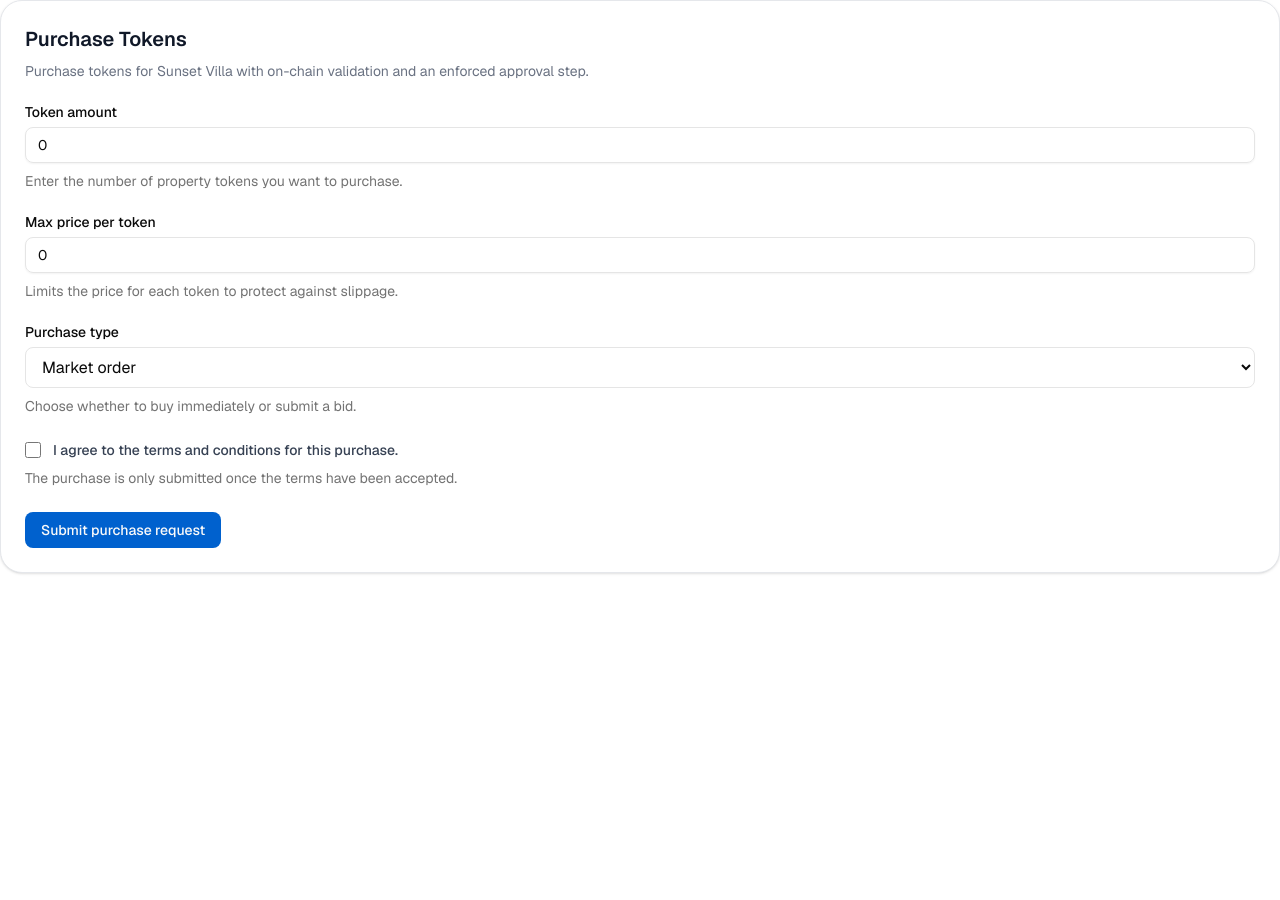
Test: PurchaseTokenForm › validation › refuses a token amount above the maximum
Replace the text in the number field labelled "Token amount" with "100001" at (640, 145), box [25,127,1255,163]
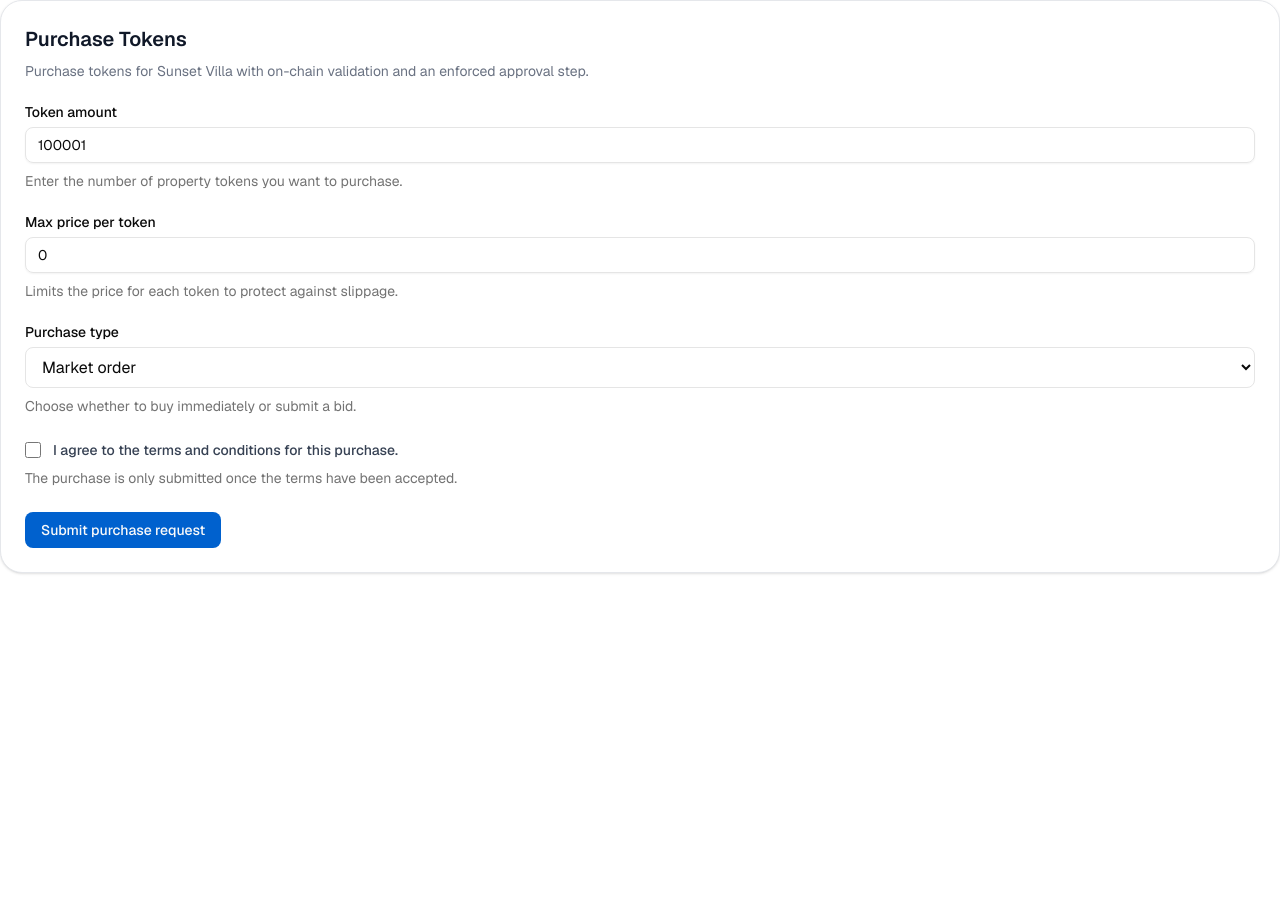
Replace the text in the number field labelled "Max price per token" with "250" at (640, 255), box [25,237,1255,273]
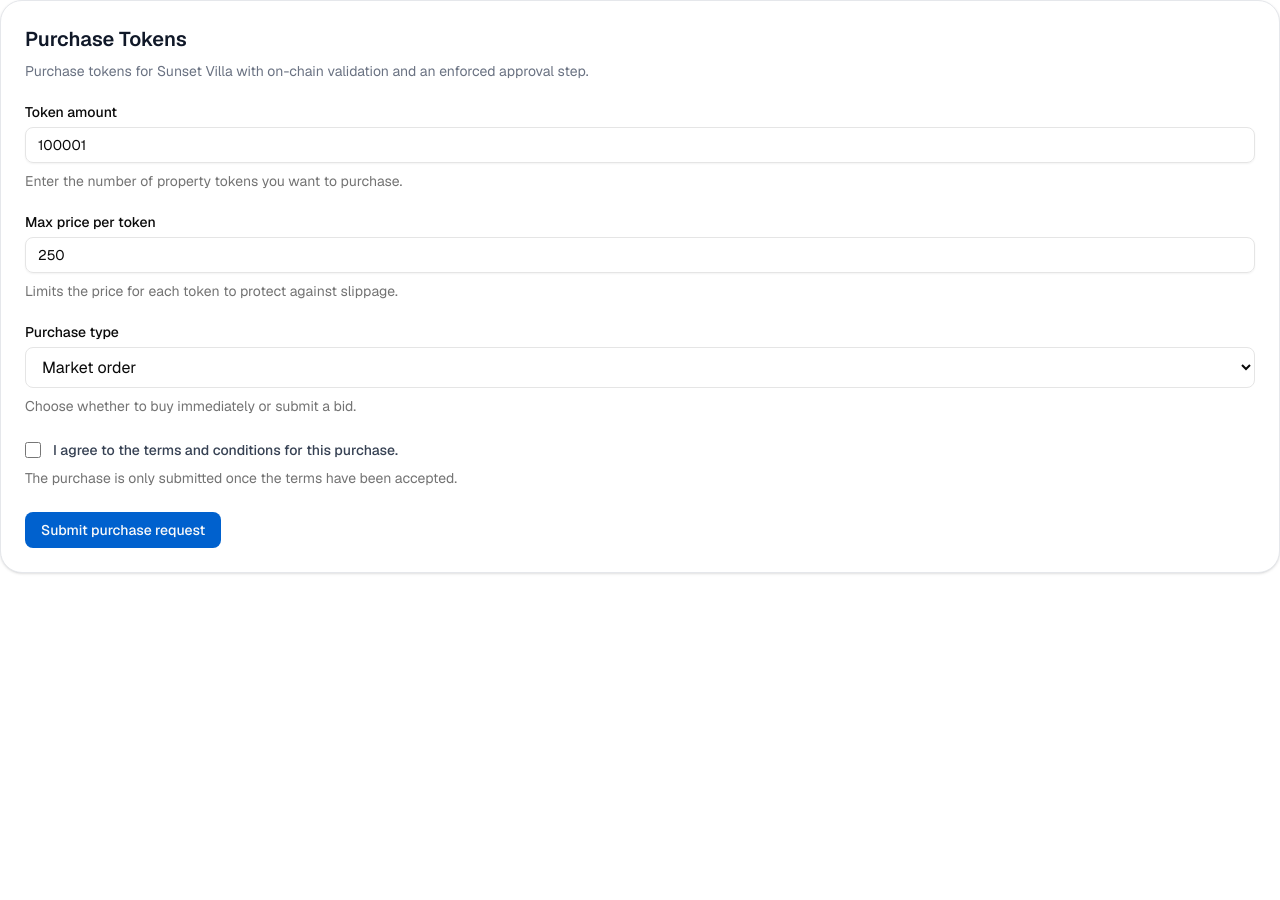
Click the checkbox labelled "I agree to the terms and conditions for this purchase." at (33, 450), box [25,442,41,458]
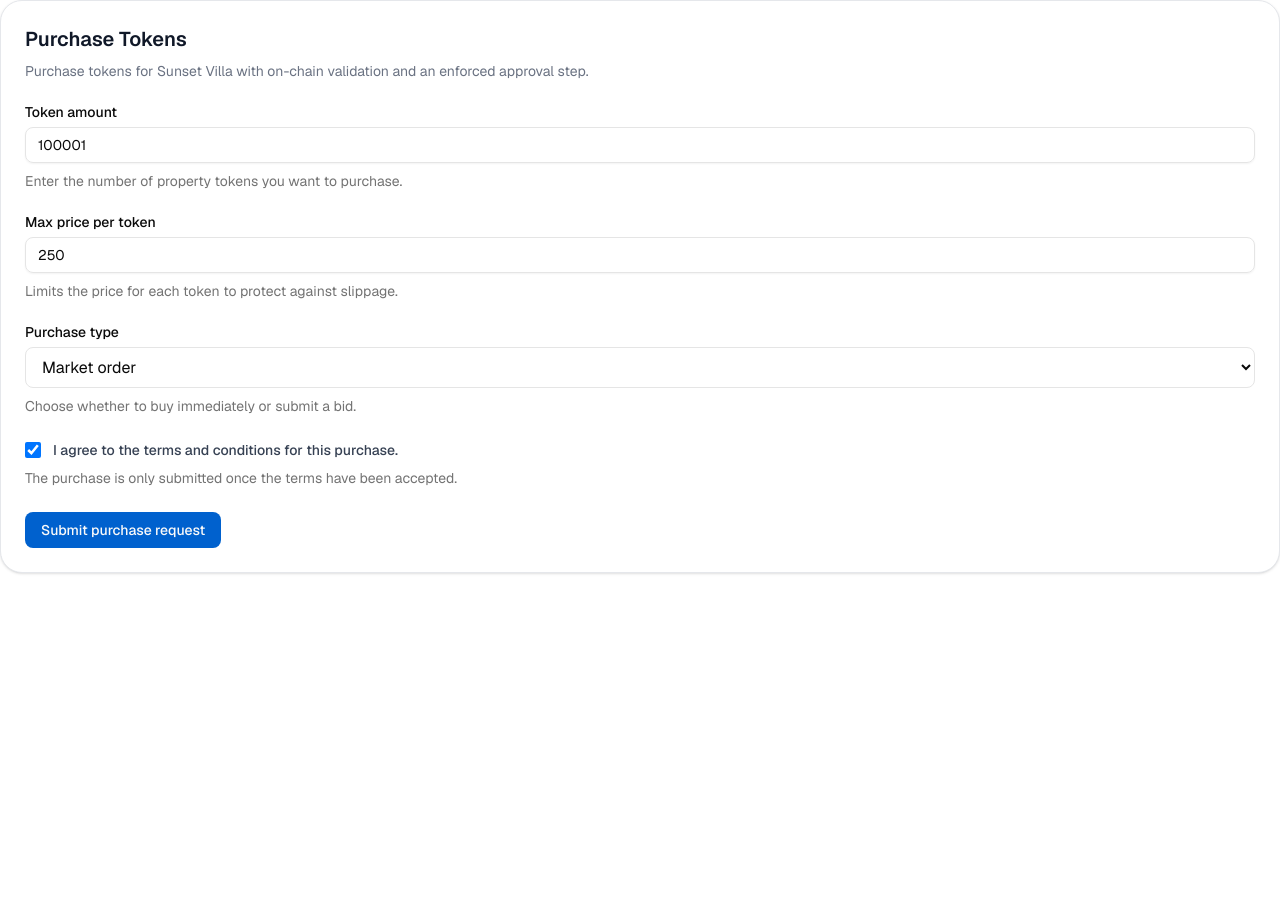
Click the button "Submit purchase request" at (123, 530), box [25,512,221,548]
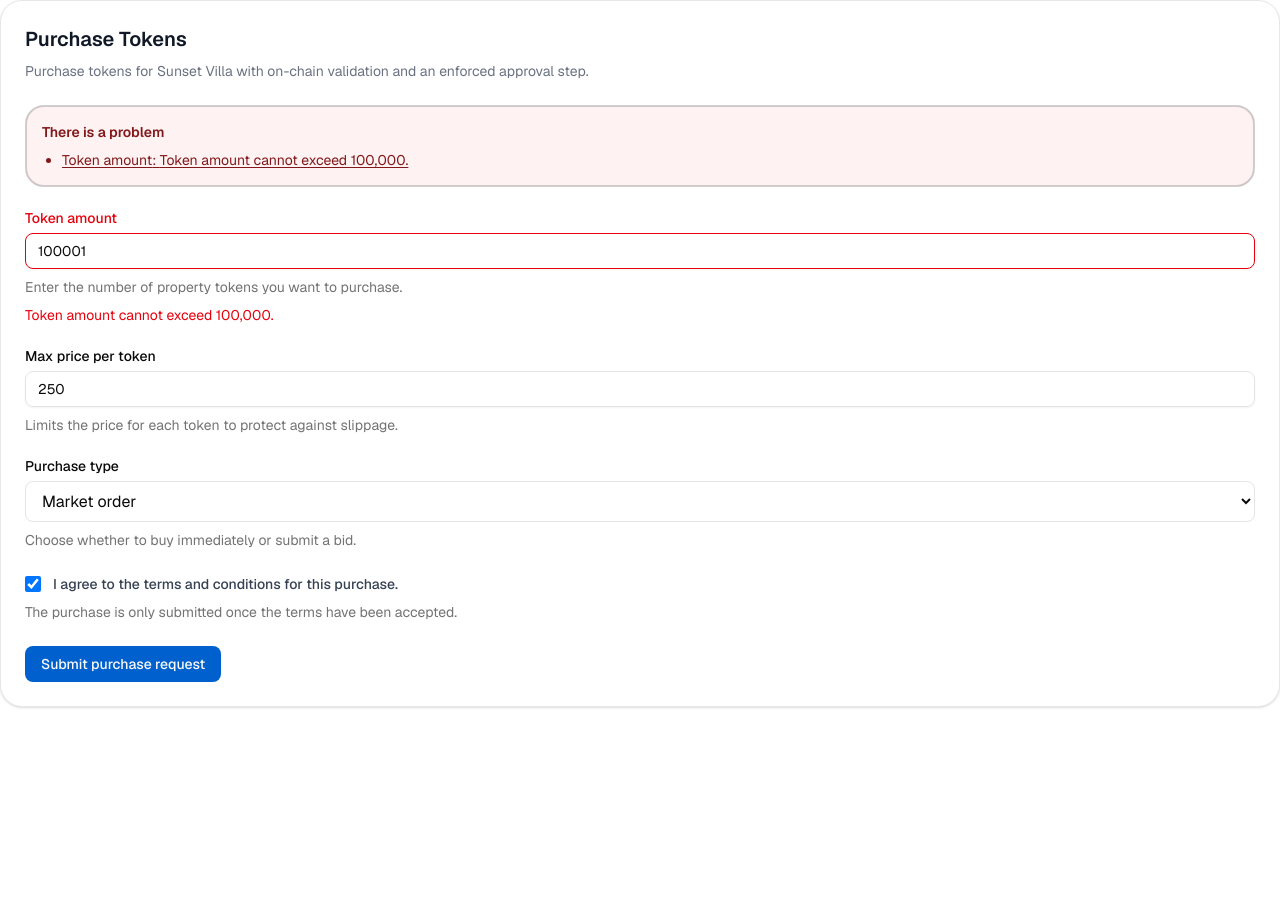
Result: the message "There is a problem Token amount: Token amount cannot exceed 100,000." is shown at [25,105,1255,187]
